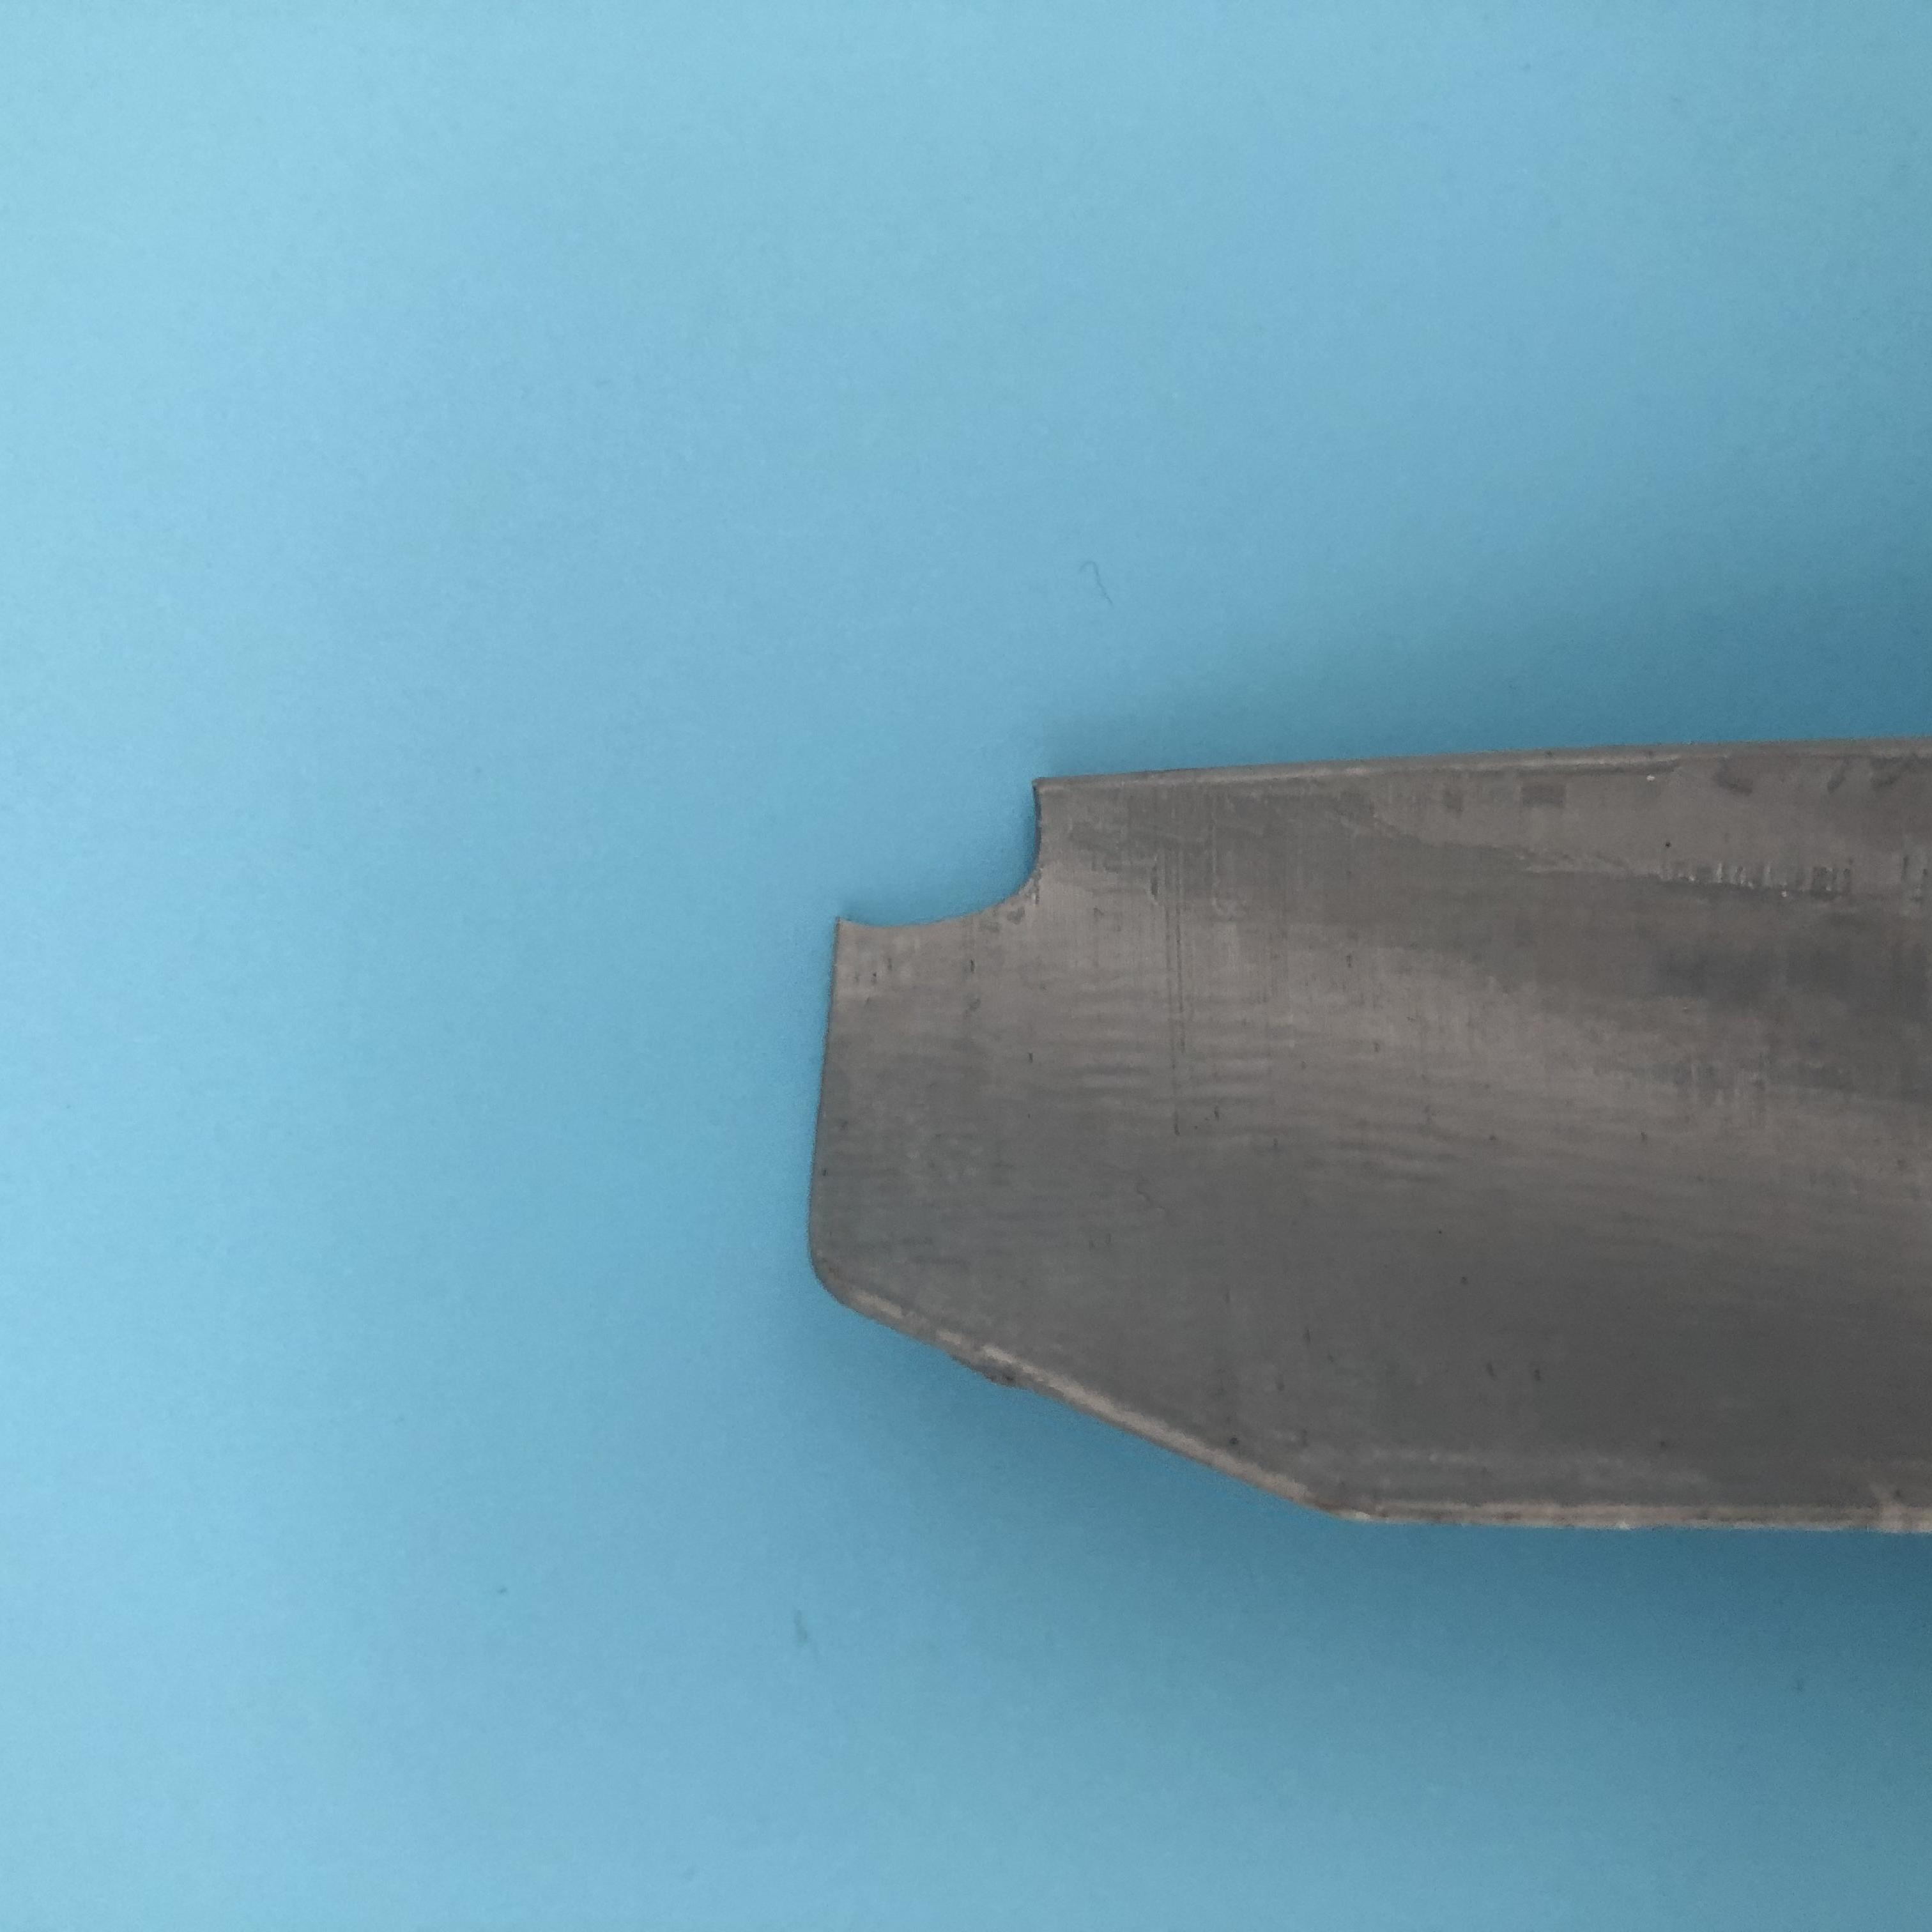fracture: (823, 764, 1081, 943)
